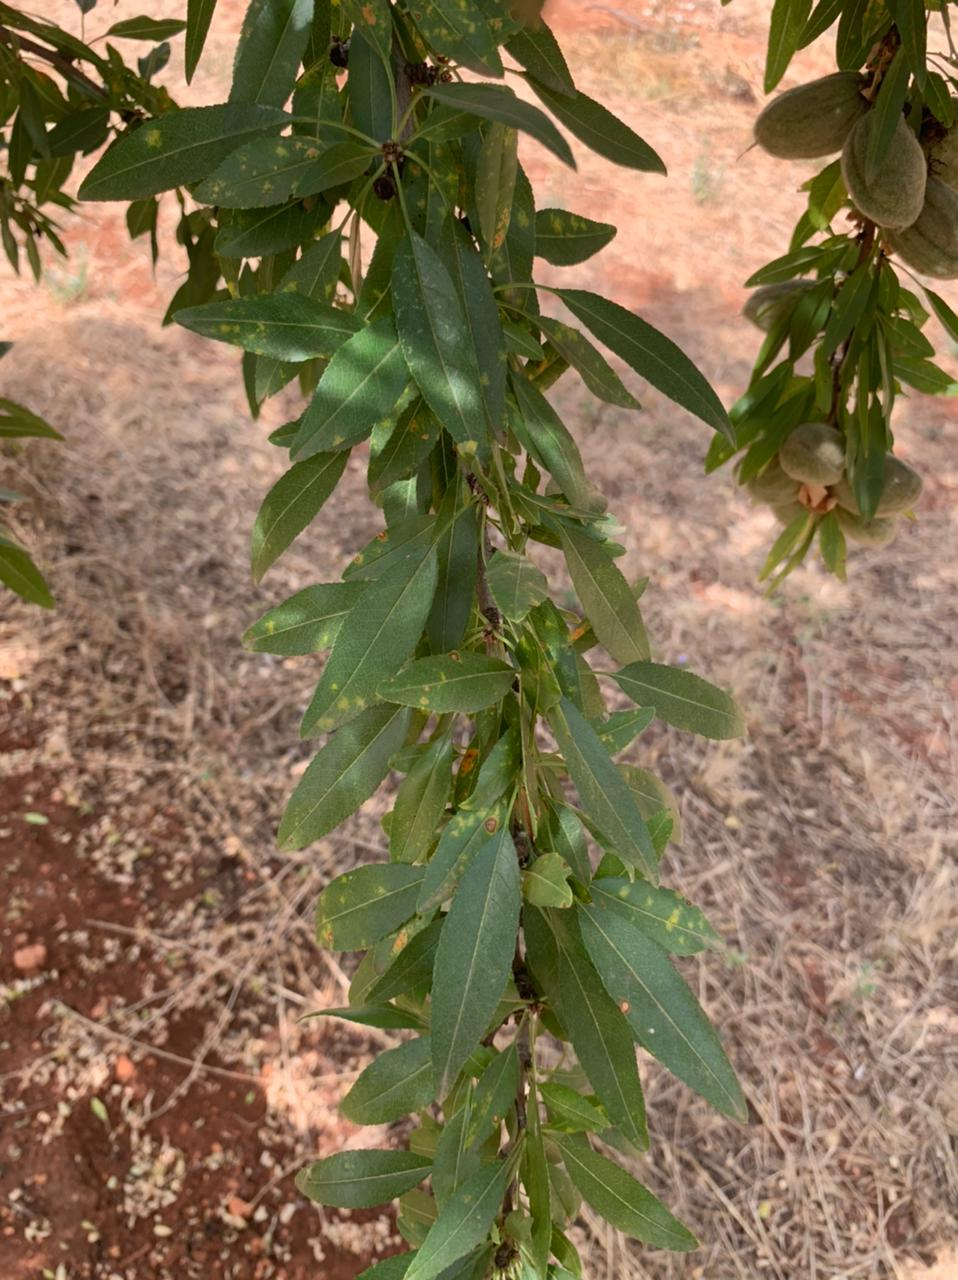polystigma: (297, 535, 440, 741), (170, 292, 364, 358), (595, 876, 739, 964), (190, 134, 328, 214), (370, 649, 517, 723), (316, 860, 427, 957), (468, 123, 520, 252)
